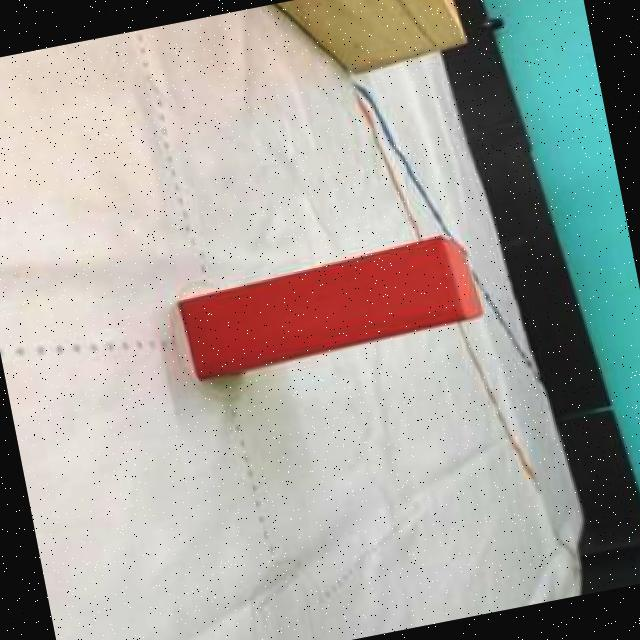redbox: (178, 230, 490, 382)
